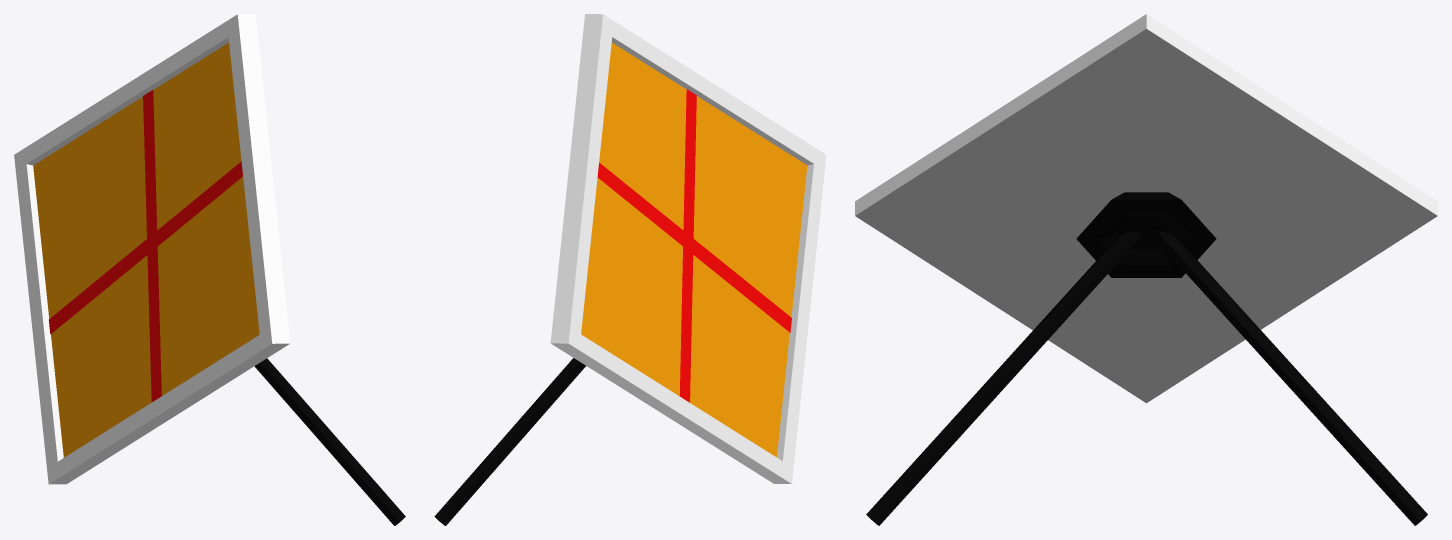
The model's file is LetreroAmarillo.fbx.
The picture shows the model from 3 angles, left to right: view 1: azimuth 30°, elevation 25°; view 2: azimuth 150°, elevation 25°; view 3: azimuth 270°, elevation 25°; orthographic projection. The views are drawn at different scales.
Visible parts, largest first — view 1: Sign-02; view 2: Sign-02; view 3: Sign-02.
Boxes of the visible parts, x1,y1,x2,y2 form: Sign-02: (14,14,405,525); Sign-02: (434,14,826,525); Sign-02: (855,14,1437,525).
Size of the model in its own units: 33.67 by 58.99 by 63.6.
Materials: 1 (1 with a texture image).
